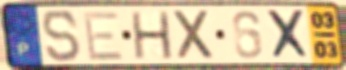6: (231, 9, 264, 61)
E: (81, 9, 126, 62)
H: (129, 9, 176, 61)
S: (40, 8, 84, 64)
X: (263, 8, 314, 61), (171, 8, 217, 62)
